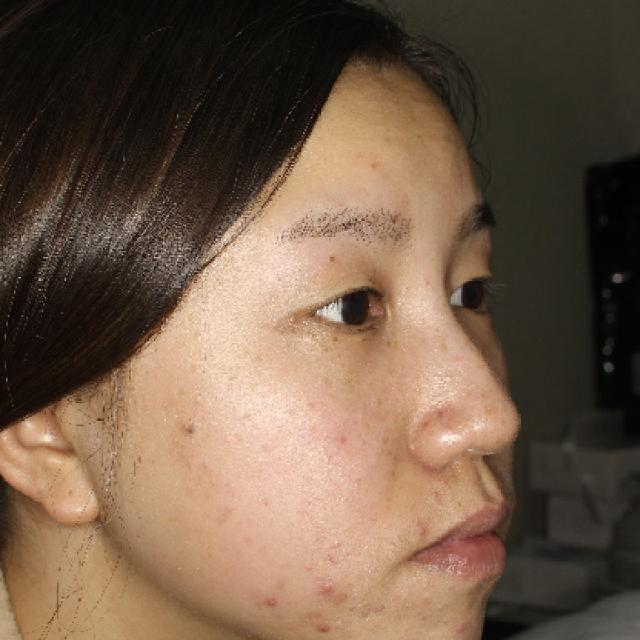Acne: (310, 569, 344, 606)
Blackheads: (174, 419, 206, 446), (322, 248, 351, 270)
